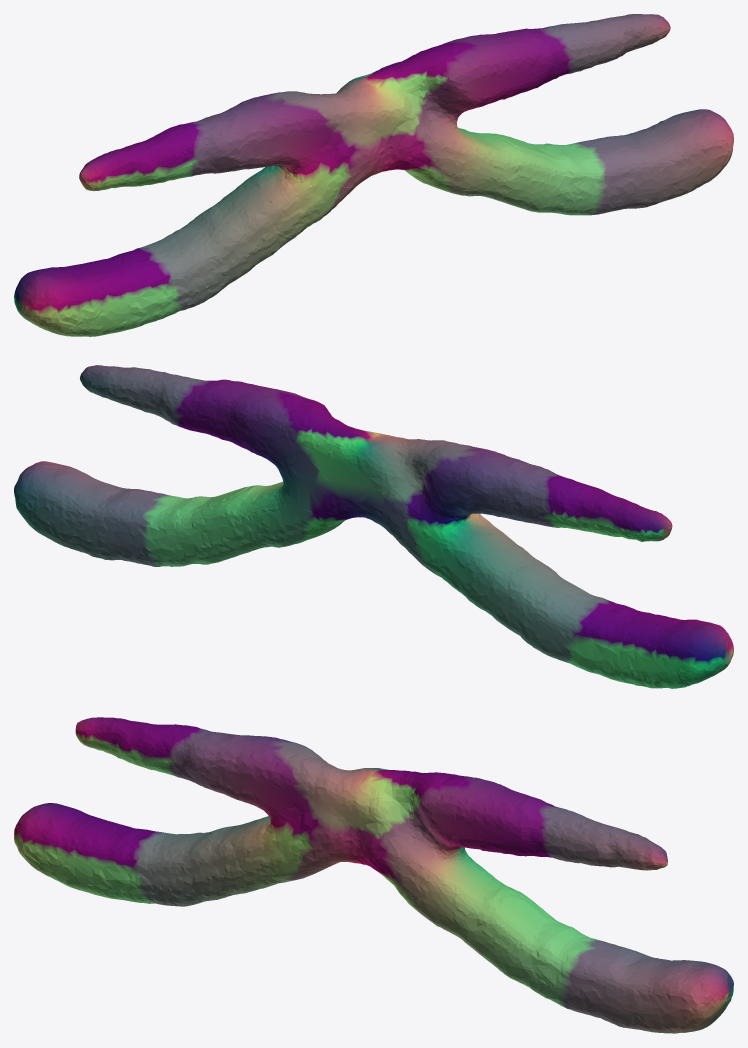
Rendered from pliers-1.off.obj.
3 views of the same model, one above another, from view 1: azimuth 30°, elevation 25°; view 2: azimuth 150°, elevation 25°; view 3: azimuth 330°, elevation 25° (orthographic).
Bounding box in the file's own units: 1.79 × 0.4813 × 0.1667.
